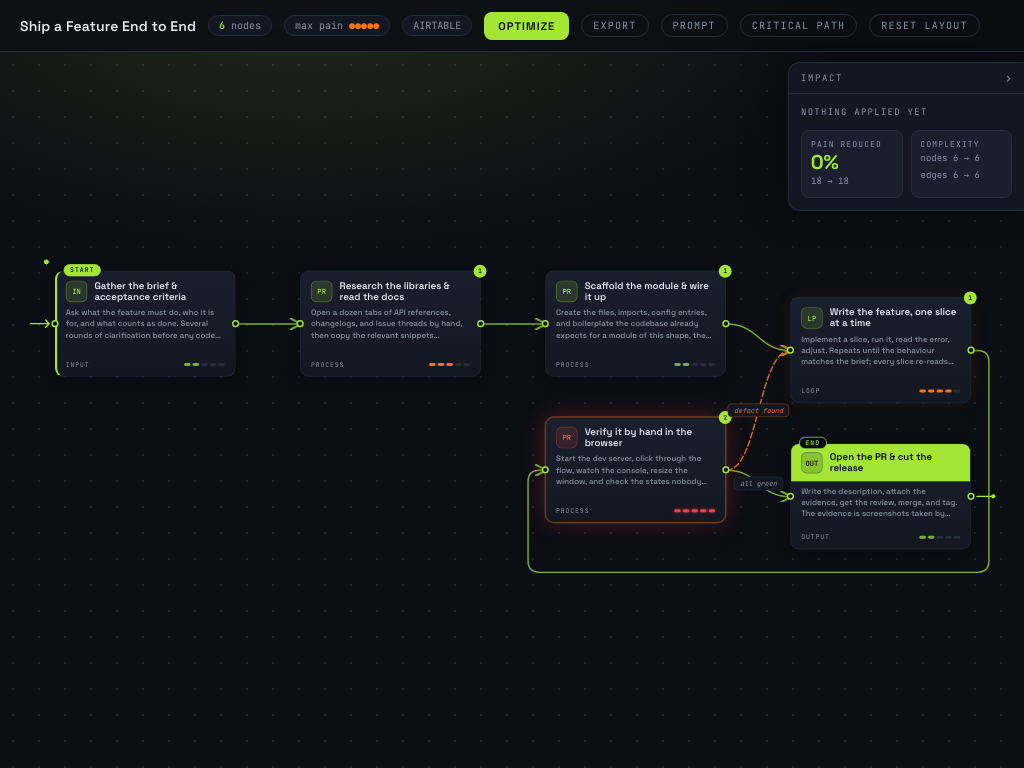
Test: offers no comparison while the original is what is on screen
Click the element with test id "sg-node" that starts with "Research the libraries & read the docs" at (390, 324), box x1=300 y1=271 x2=481 y2=377
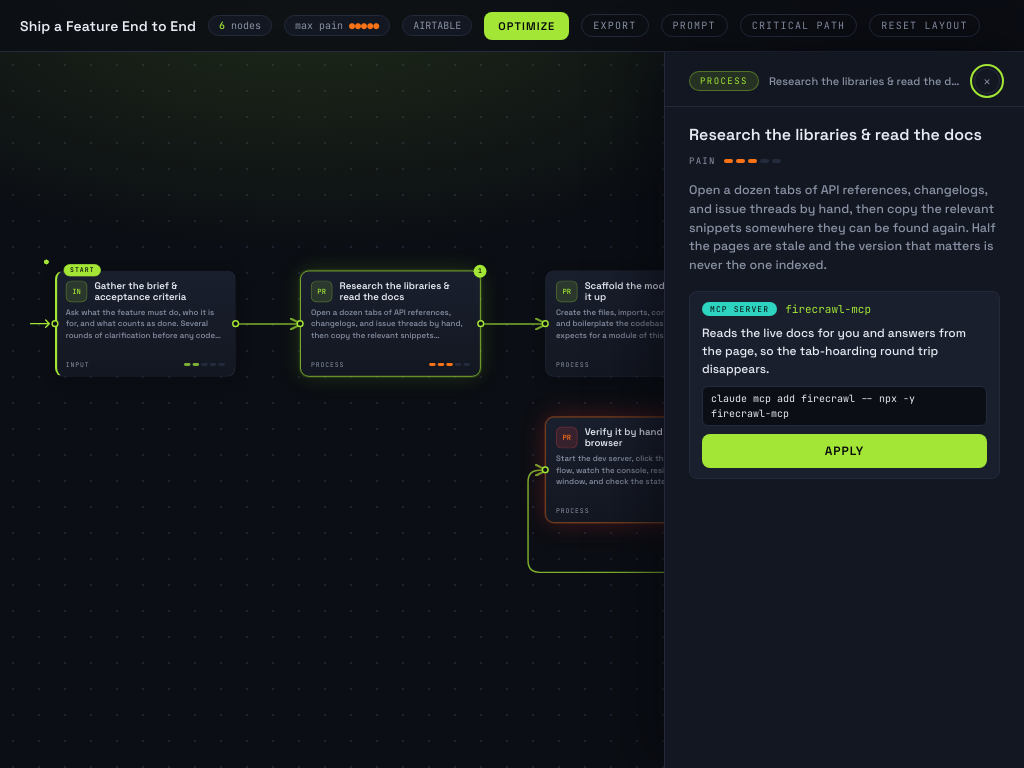
Now the dialog with test id "detail-drawer" is shown, box x1=664 y1=52 x2=1023 y2=767
Click the button with test id "sg-sug-apply" at (844, 451), box x1=702 y1=434 x2=987 y2=468
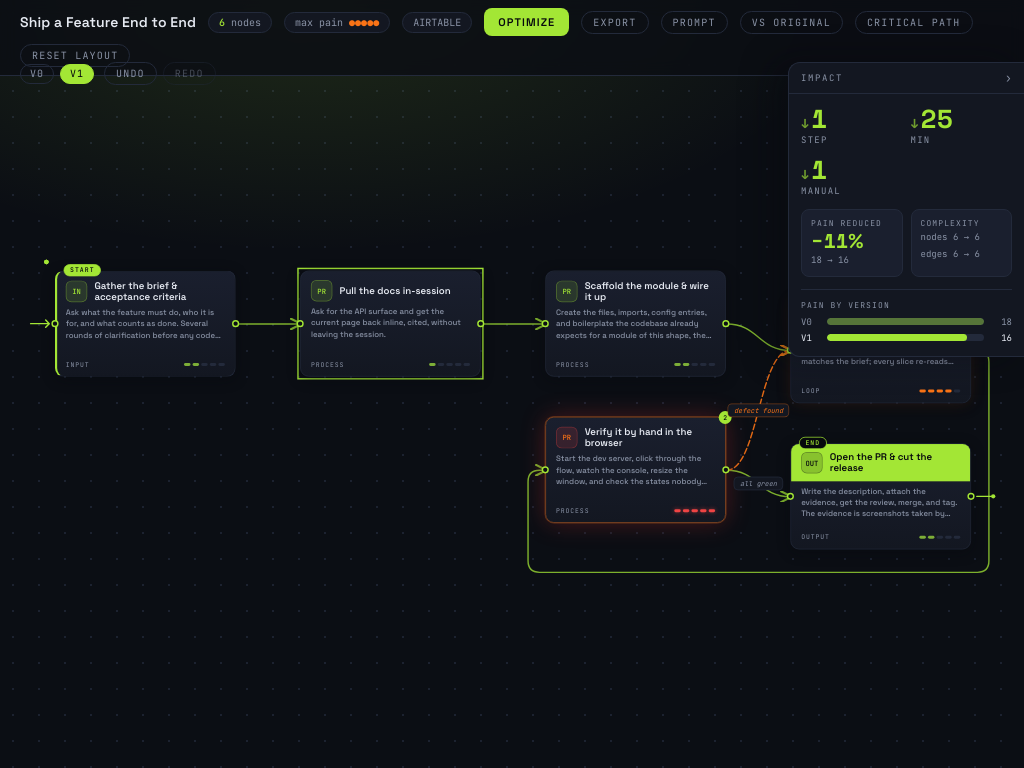
Now the text "Pull the docs in-session" is shown, box x1=340 y1=285 x2=451 y2=296
Now the button with test id "wipe-btn" reads "VS ORIGINAL", box x1=740 y1=10 x2=843 y2=34
